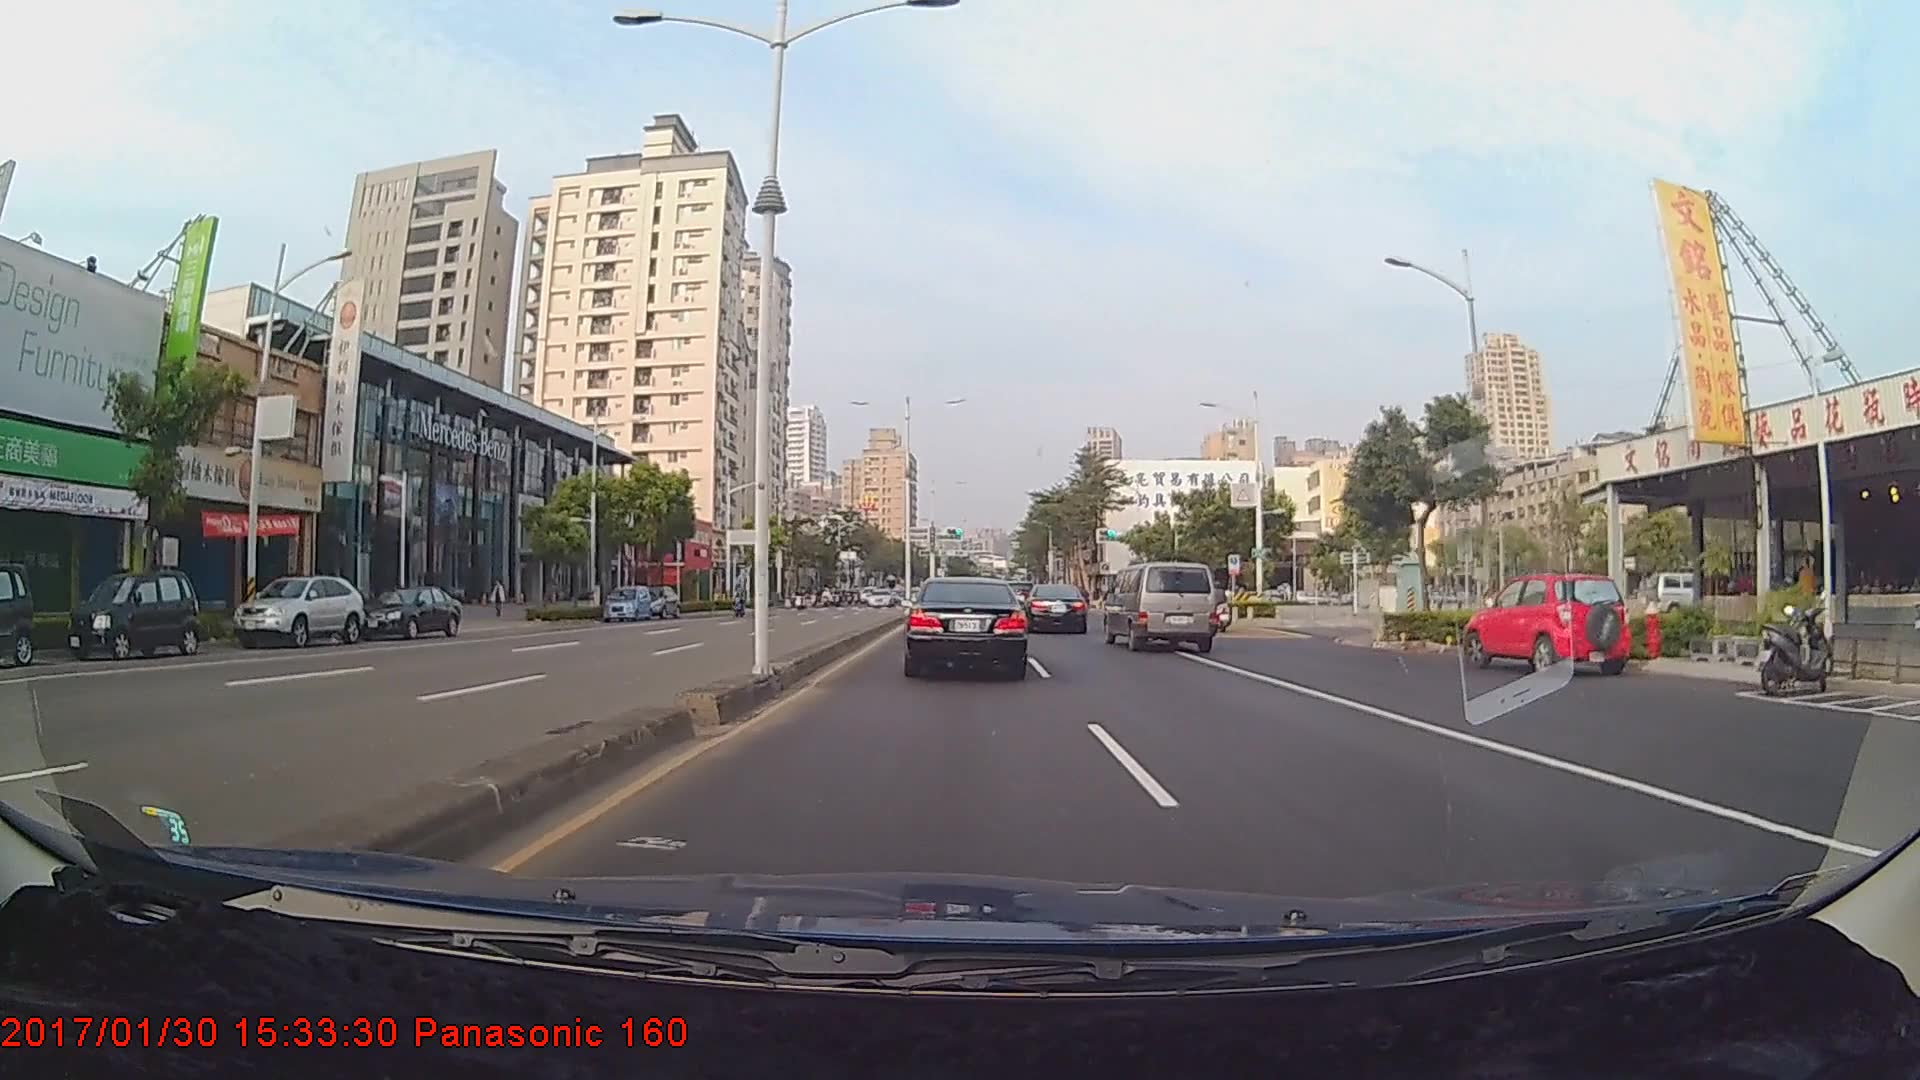pedestrian: (1796, 558, 1820, 635), (489, 579, 509, 620)
vehicle: (1468, 571, 1625, 675), (905, 575, 1027, 677), (1104, 561, 1221, 651), (230, 572, 362, 646), (113, 572, 200, 659), (360, 584, 460, 640), (0, 564, 34, 675), (1023, 583, 1090, 635), (603, 583, 652, 622), (638, 585, 678, 619)
